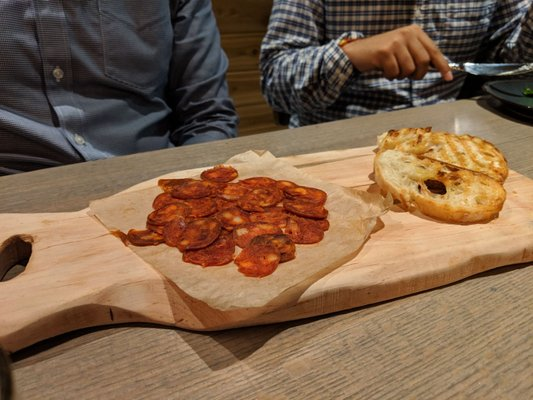curry: (2, 76, 533, 399)
salad: (371, 126, 509, 224)
sandwich: (122, 165, 328, 277)
